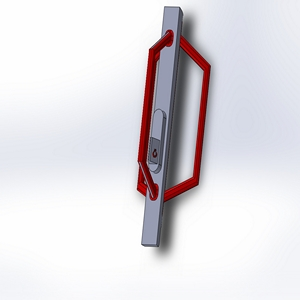submarine: (111, 1, 217, 255)
